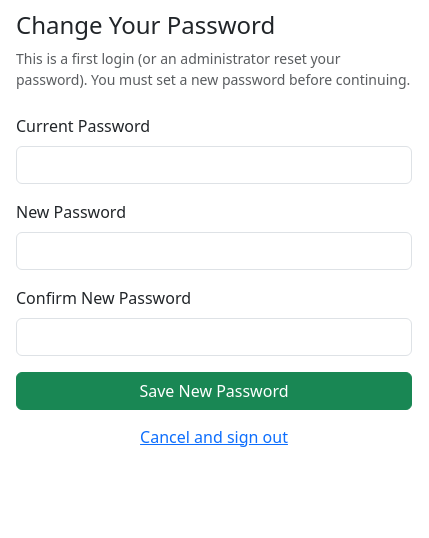
Scenario: ChangePassword › shows the server's error when the current password is wrong
Expected: the form with test id "change-password-form" is shown, [16,114,412,456]
In the password field with test id "current-password": point(214, 165) [16,146,412,184], type "WrongTemp1!"
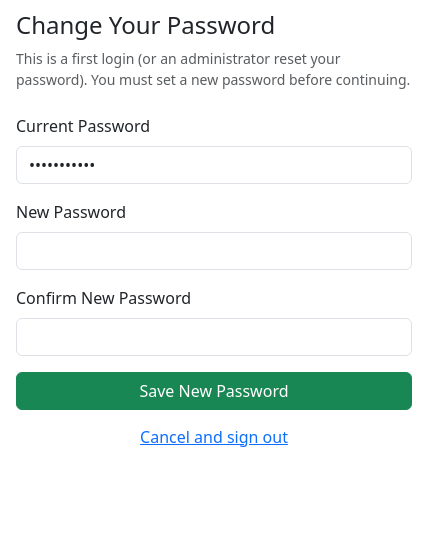
In the password field with test id "new-password": point(214, 251) [16,232,412,270], type "NewPassword1!"
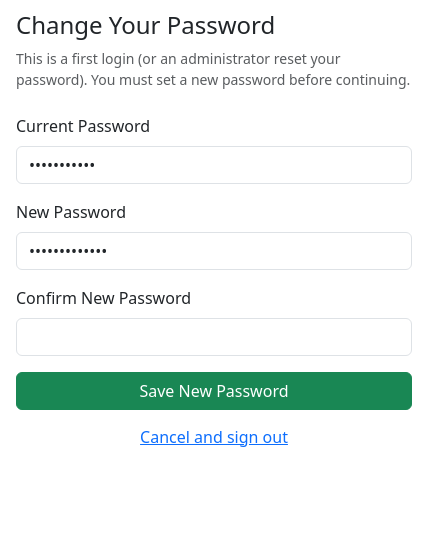
In the password field with test id "confirm-password": point(214, 337) [16,318,412,356], type "NewPassword1!"
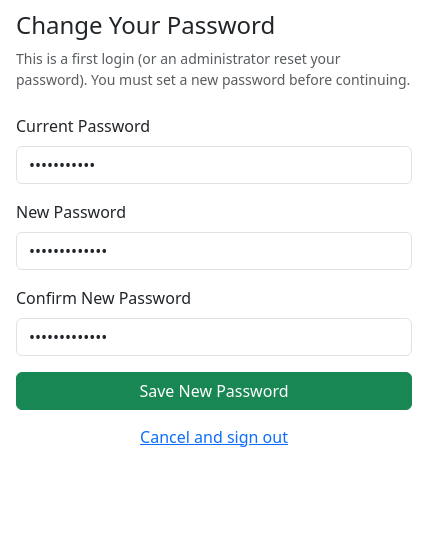
Click the button with test id "change-password-submit": point(214, 391) [16,372,412,410]
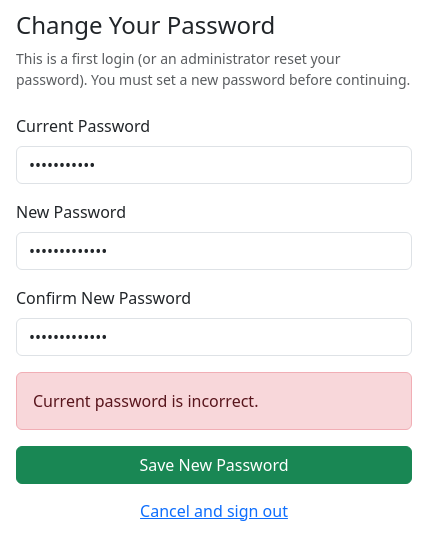
Result: the message "Current password is incorrect." is shown at [16,372,412,430]
Result: the message with test id "change-password-error" reads "Current password is incorrect." at [33,390,258,412]
